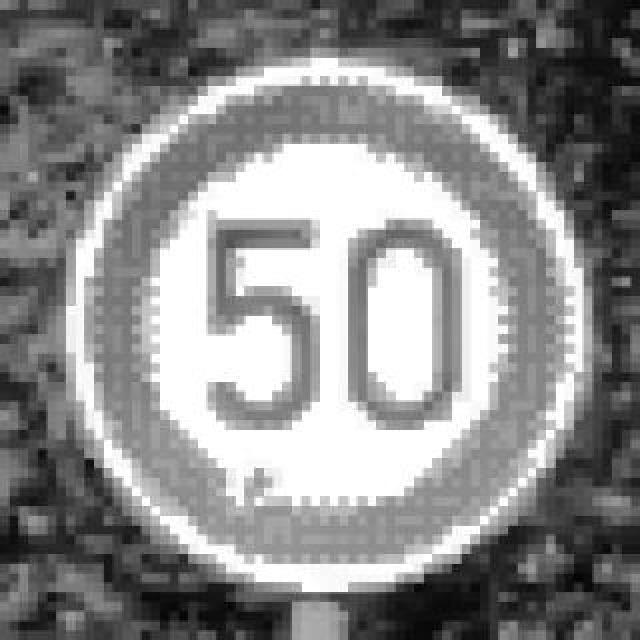50 kph: (56, 38, 584, 592)
